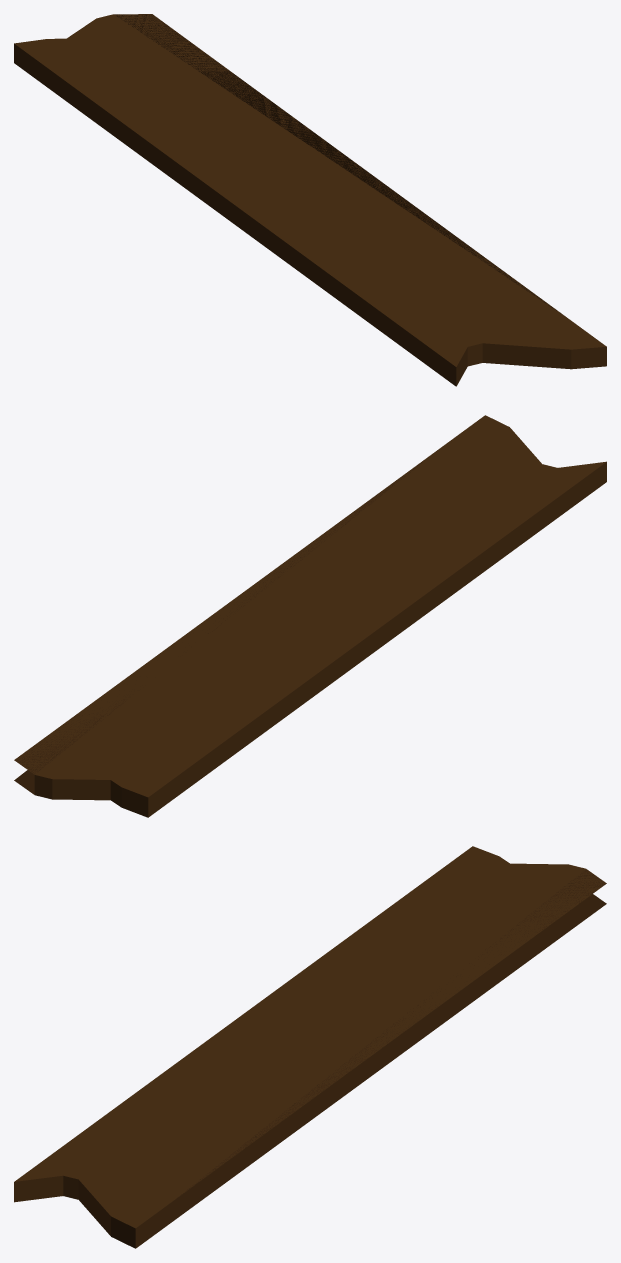
File: plank.fbx
The picture shows the model from 3 angles, top to bottom: view 1: azimuth 30°, elevation 25°; view 2: azimuth 150°, elevation 25°; view 3: azimuth 330°, elevation 25°; orthographic projection. The views are drawn at different scales.
Parts seen in each view (by area): view 1: Plank; view 2: Plank; view 3: Plank.
Part boxes in pixels (<box>): Plank: <box>14,14,606,386</box>; Plank: <box>14,415,606,817</box>; Plank: <box>14,846,606,1248</box>.
Bounding box in the file's own units: 50 × 7 × 300.
